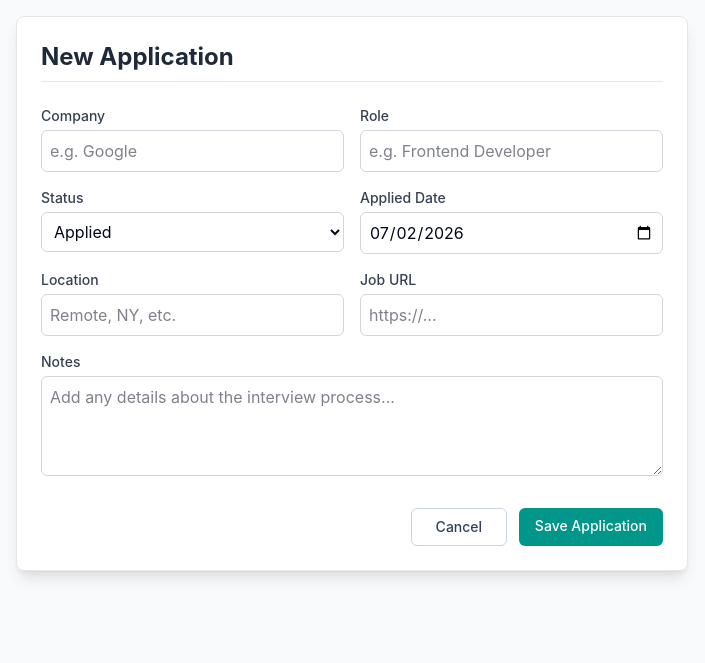
Test: ApplicationFormPage › shows an inline error message when create fails and does not navigate
Type "Acme" into the field labelled "Company".
click(192, 151); type("Acme")  # box [41,130,344,172]
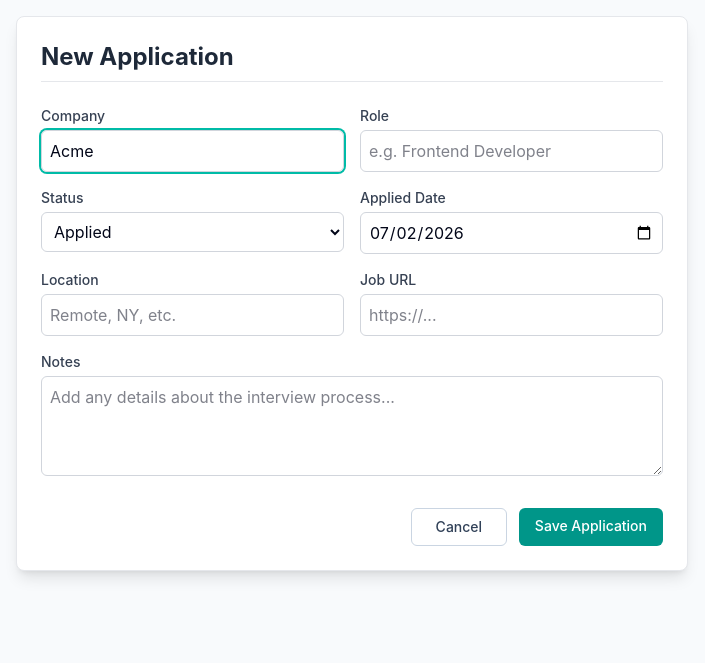
Type "Frontend Engineer" into the field labelled "Role".
click(512, 151); type("Frontend Engineer")  # box [360,130,663,172]
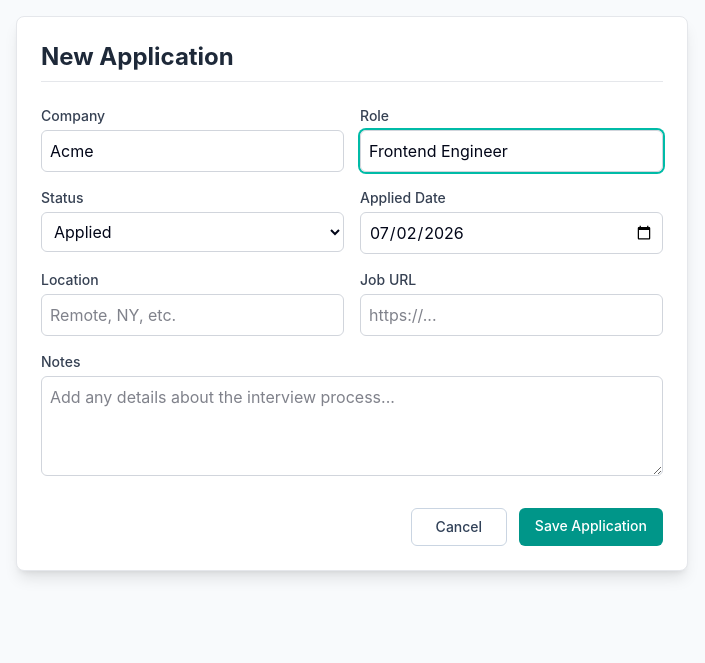
Type "2026-04-21" into the date field labelled "Applied Date".
click(512, 233); type("2026-04-21")  # box [360,212,663,254]
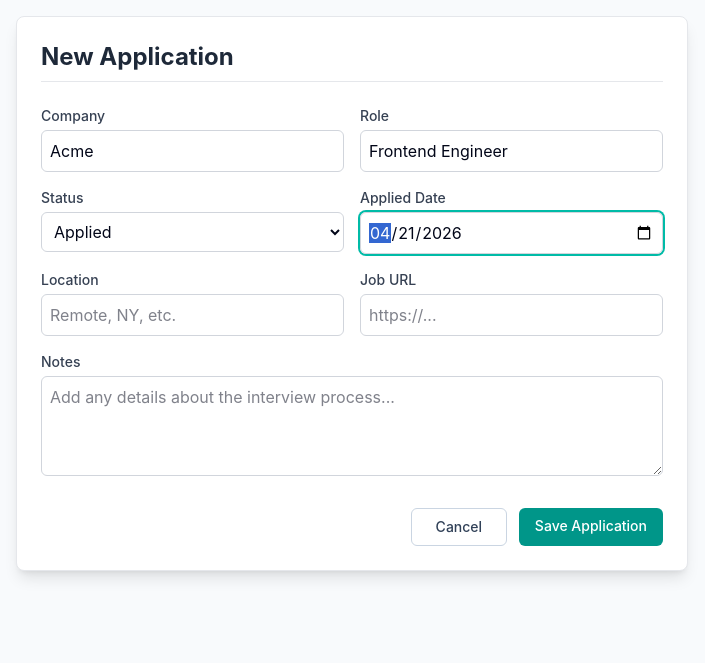
Type "Remote" into the field labelled "Location".
click(192, 315); type("Remote")  # box [41,294,344,336]
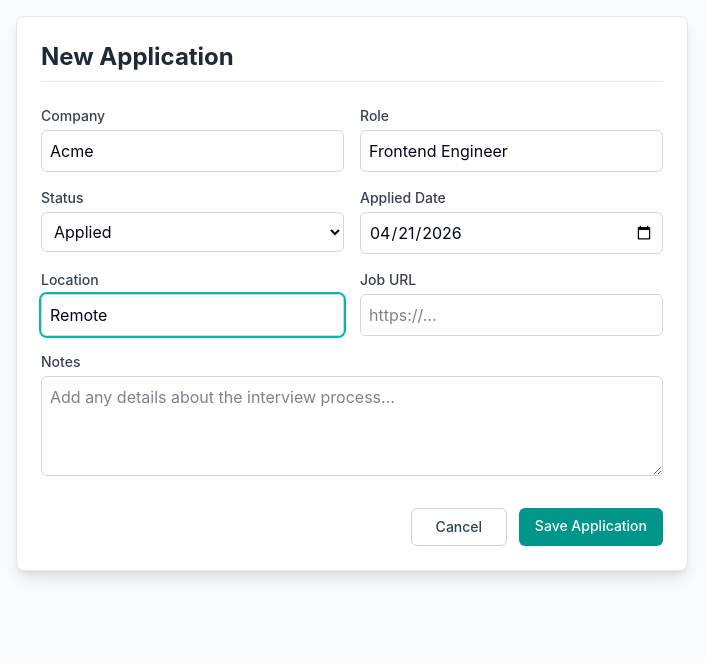
Click the button "Save Application".
click(591, 527)  # box [519,508,663,546]
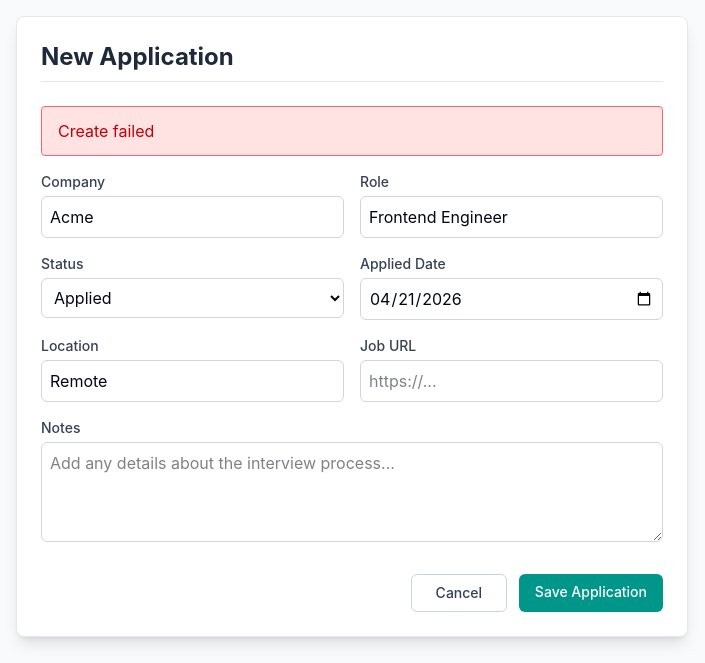
Expected: the message reads "Create failed", [58,121,154,141]
Type " Updated" into the field labelled "Company".
click(192, 217); type(" Updated")  # box [41,196,344,238]
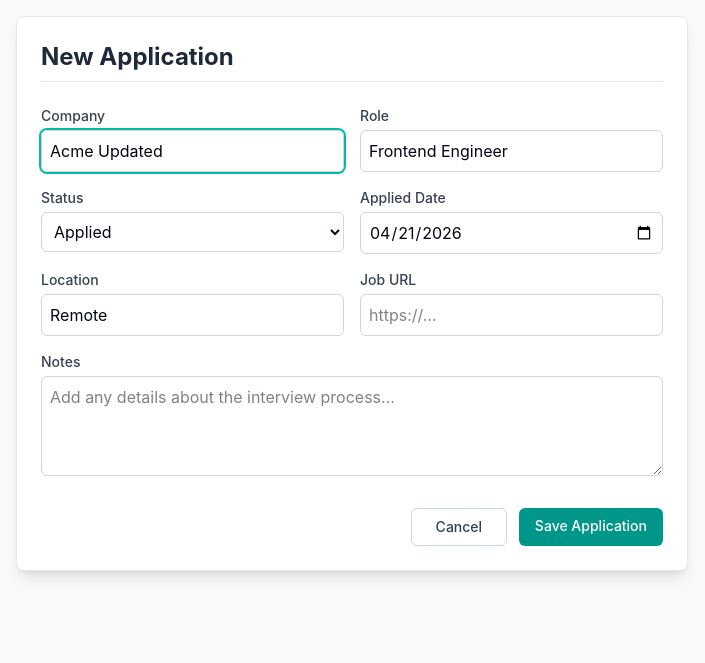
Expected: the message "Create failed" is gone
